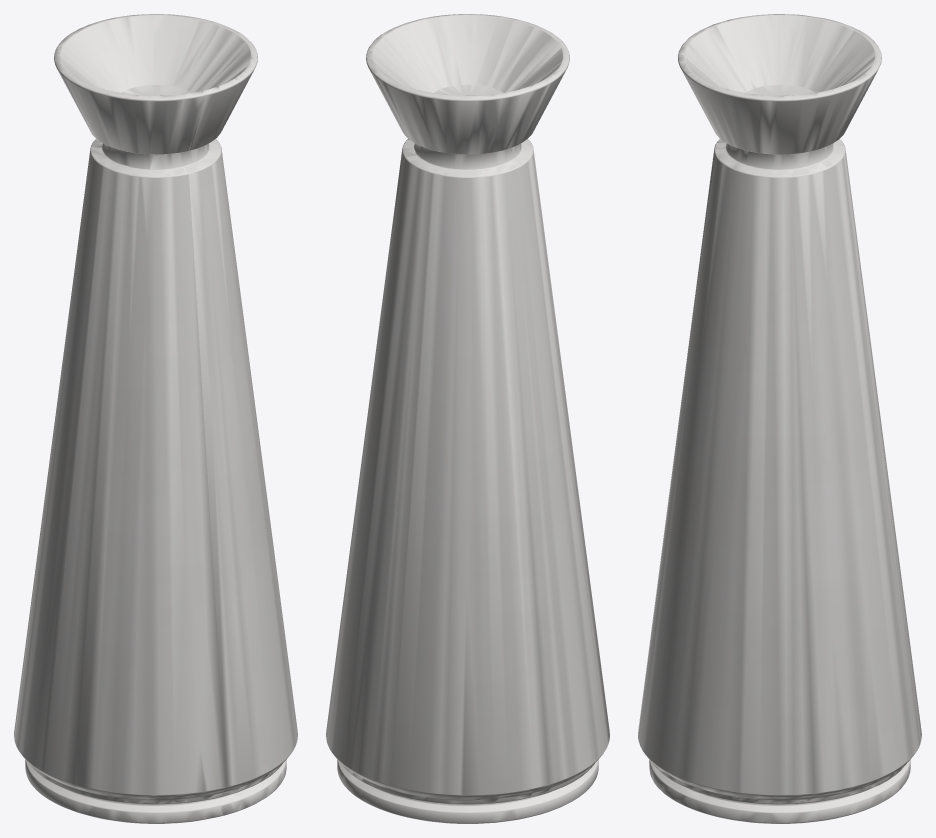
Rendered from queen-white.glb.
3 views of the same model, side by side, from view 1: azimuth 30°, elevation 25°; view 2: azimuth 150°, elevation 25°; view 3: azimuth 270°, elevation 25° (orthographic).
Visible parts, largest first — view 1: 02_dama_bila; view 2: 02_dama_bila; view 3: 02_dama_bila.
Part boxes in pixels (box(x1,y1,x2,y2)): 02_dama_bila: box(14, 14, 297, 823); 02_dama_bila: box(326, 14, 609, 823); 02_dama_bila: box(638, 14, 921, 823).
Bounding box in the file's own units: 0.5836 × 1.62 × 0.5832.
Materials: 1 (1 with a texture image).
